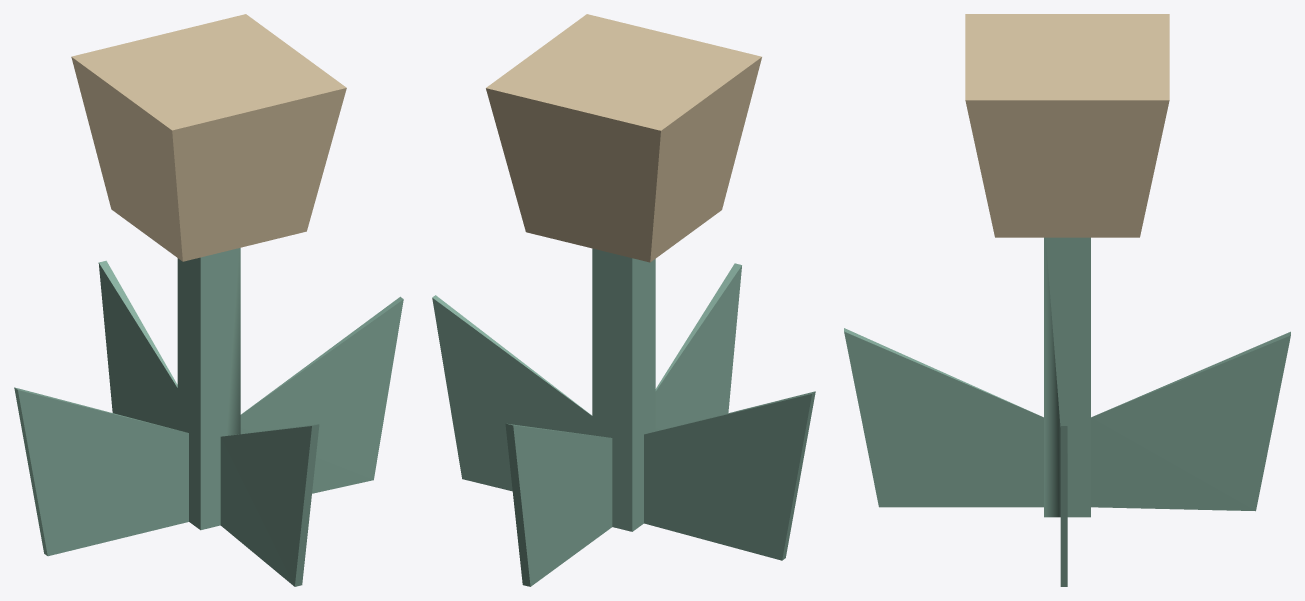
Rendered from Nature Flower 1.fbx.
3 views of the same model, side by side, from view 1: azimuth 30°, elevation 25°; view 2: azimuth 150°, elevation 25°; view 3: azimuth 270°, elevation 25° (orthographic).
Parts seen in each view (by area): view 1: Nature Flower 1; view 2: Nature Flower 1; view 3: Nature Flower 1.
Part boxes in pixels (<box>): Nature Flower 1: <box>14,14,403,586</box>; Nature Flower 1: <box>432,14,815,586</box>; Nature Flower 1: <box>844,14,1290,586</box>.
Bounding box in the file's own units: 48.6 × 54 × 48.59.
